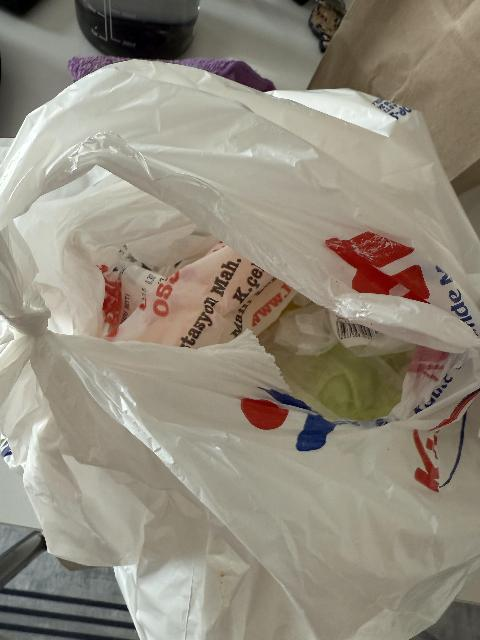Plastik: (0, 71, 480, 640)
